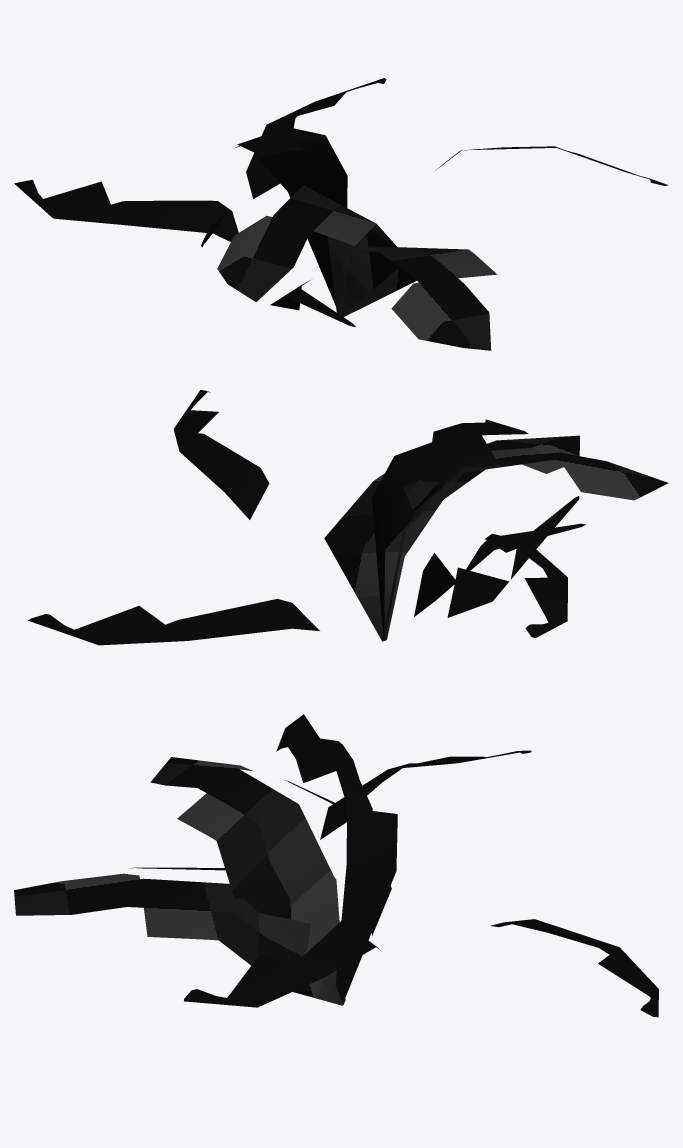
File: cliffFoliage04.fbx
The picture shows the model from 3 angles, top to bottom: view 1: azimuth 30°, elevation 25°; view 2: azimuth 150°, elevation 25°; view 3: azimuth 270°, elevation 25°; orthographic projection. The views are drawn at different scales.
Parts seen in each view (by area): view 1: polySurface23; view 2: polySurface23; view 3: polySurface23.
Part boxes in pixels (<box>): polySurface23: <box>14,78,668,350</box>; polySurface23: <box>28,390,668,645</box>; polySurface23: <box>14,714,658,1017</box>.
Bounding box in the file's own units: 1.09 × 0.447 × 1.08.
